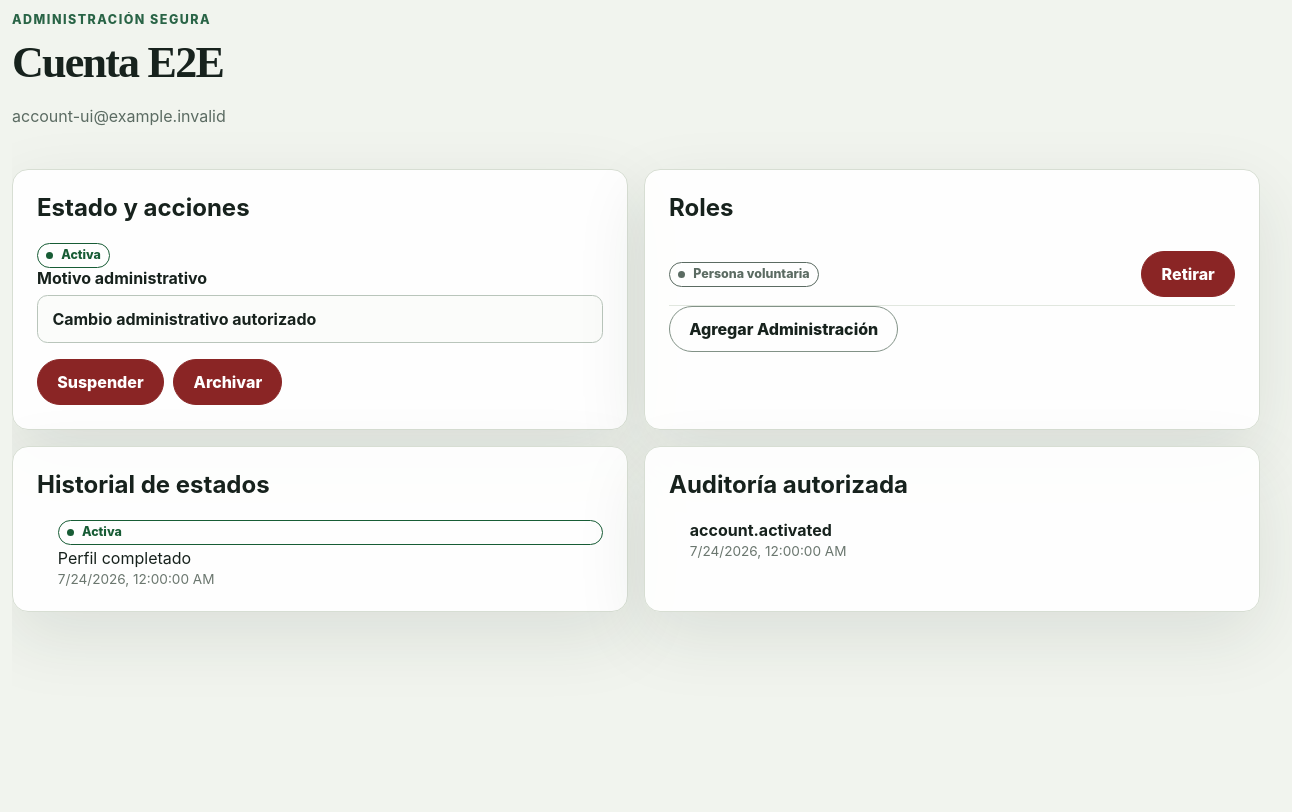
Test case: AccountDetailPage › confirms suspension and passes the normalized administrative reason
Replace the text in the field labelled "Motivo administrativo" with "  Riesgo temporal  ": (320, 319) [37,295,603,343]
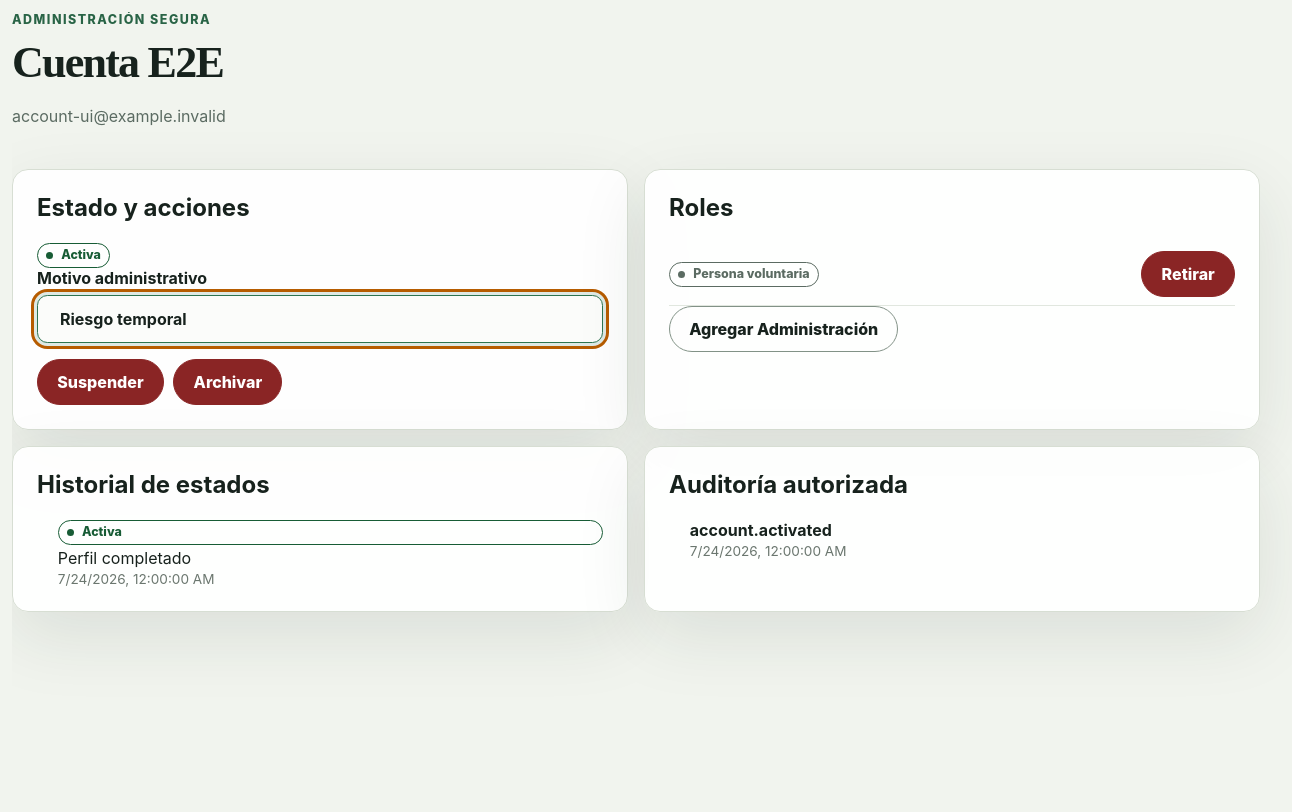
Click the button "Suspender": (100, 382) [37,359,164,405]
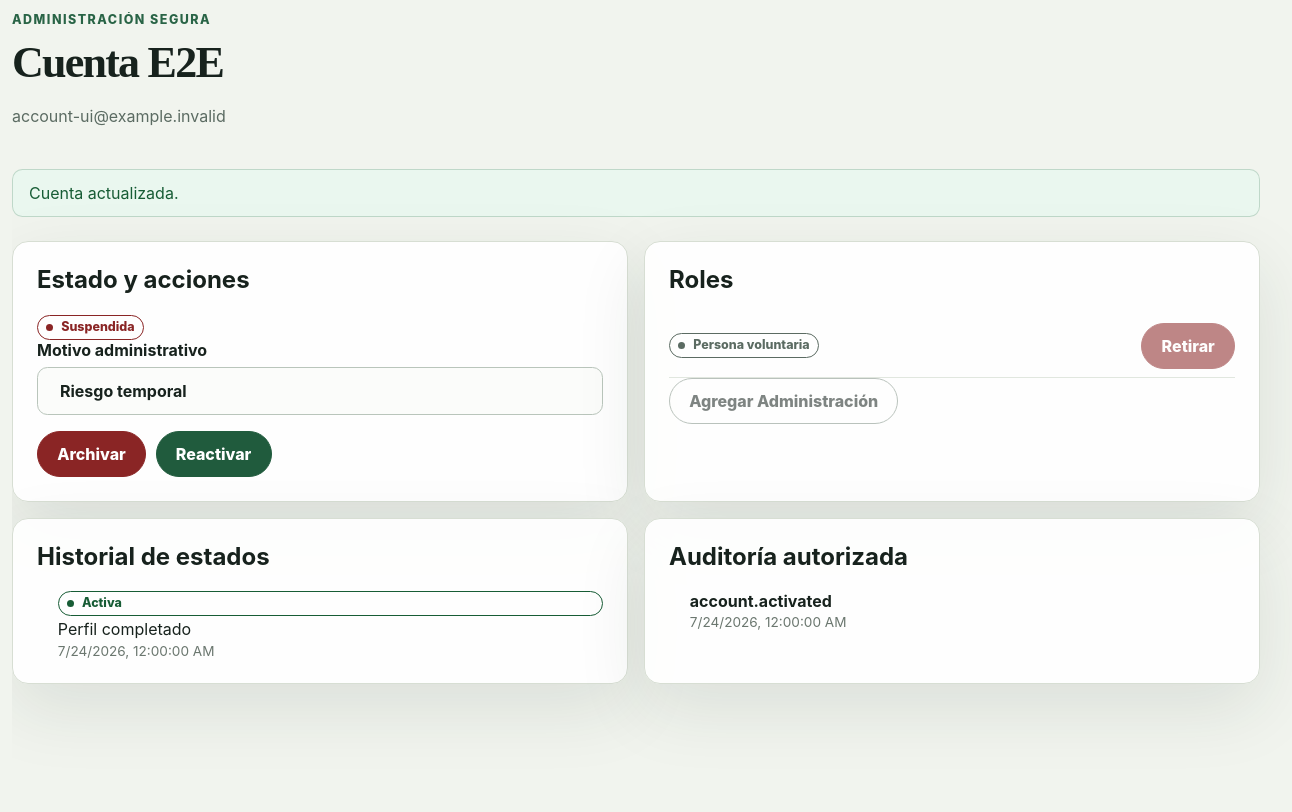
Check: the text "Suspendida" is shown, box [37,315,144,340]
Check: the button "Reactivar" is shown, box [156,430,272,476]
